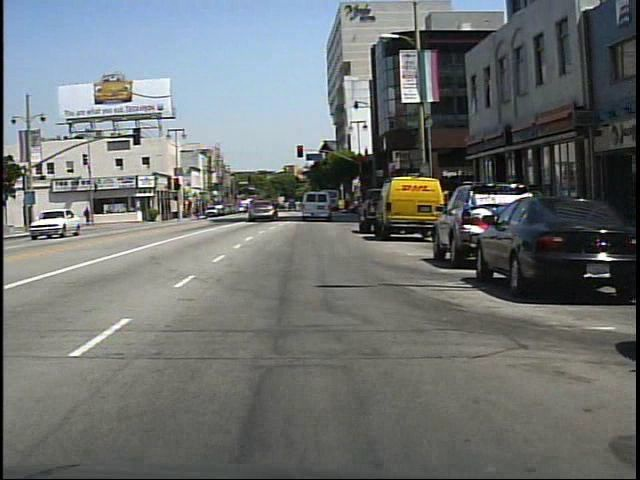person: (254, 192, 271, 222), (82, 203, 97, 231)
